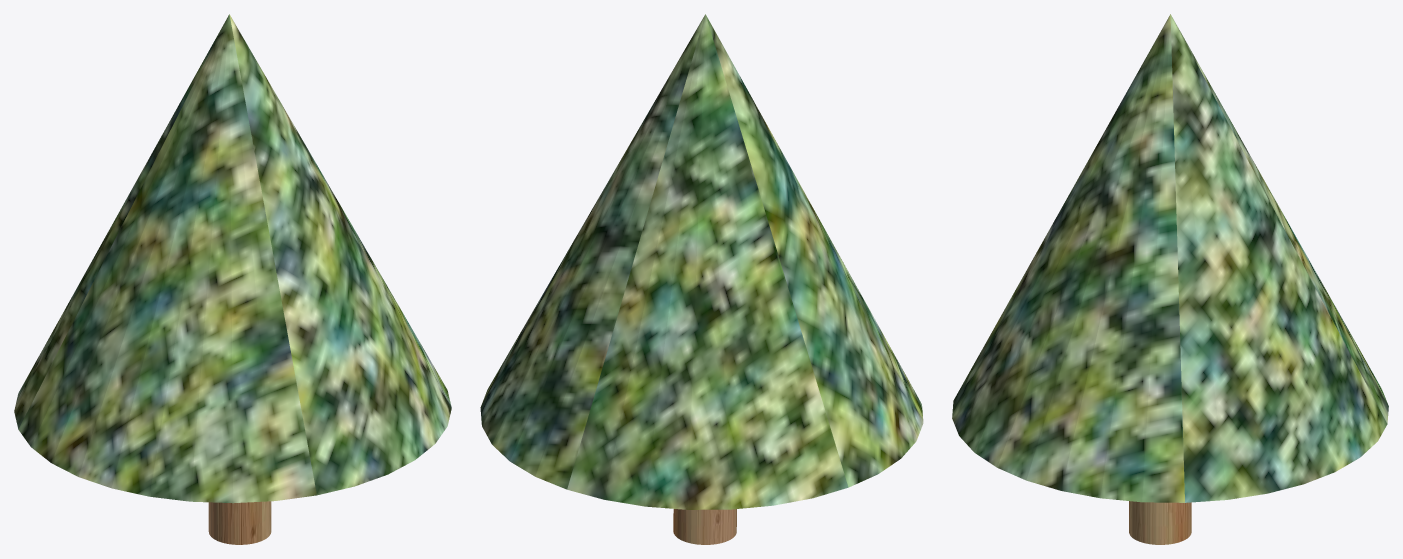
Rendered from stage_Tree.fbx.
3 renders of one model, left to right at view 1: azimuth 30°, elevation 25°; view 2: azimuth 150°, elevation 25°; view 3: azimuth 270°, elevation 25°, orthographic.
Visible parts, largest first — view 1: 円錐.010; view 2: 円錐.010; view 3: 円錐.010.
Boxes of the visible parts, bbox=[...] form: 円錐.010: bbox=[14, 14, 451, 544]; 円錐.010: bbox=[480, 14, 923, 544]; 円錐.010: bbox=[952, 14, 1388, 544].
Bounding box in the file's own units: 692 × 901 × 692.
2 materials, 2 textured.
